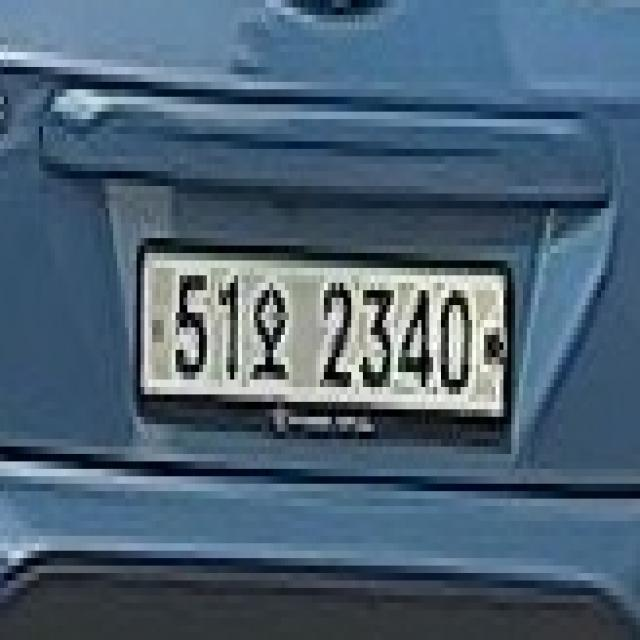0: (437, 284, 475, 402)
1: (215, 272, 244, 392)
2: (317, 276, 352, 400)
3: (360, 288, 392, 396)
4: (397, 283, 434, 394)
5: (172, 263, 213, 384)
license_plate: (128, 232, 526, 452)
o: (249, 284, 291, 394)
